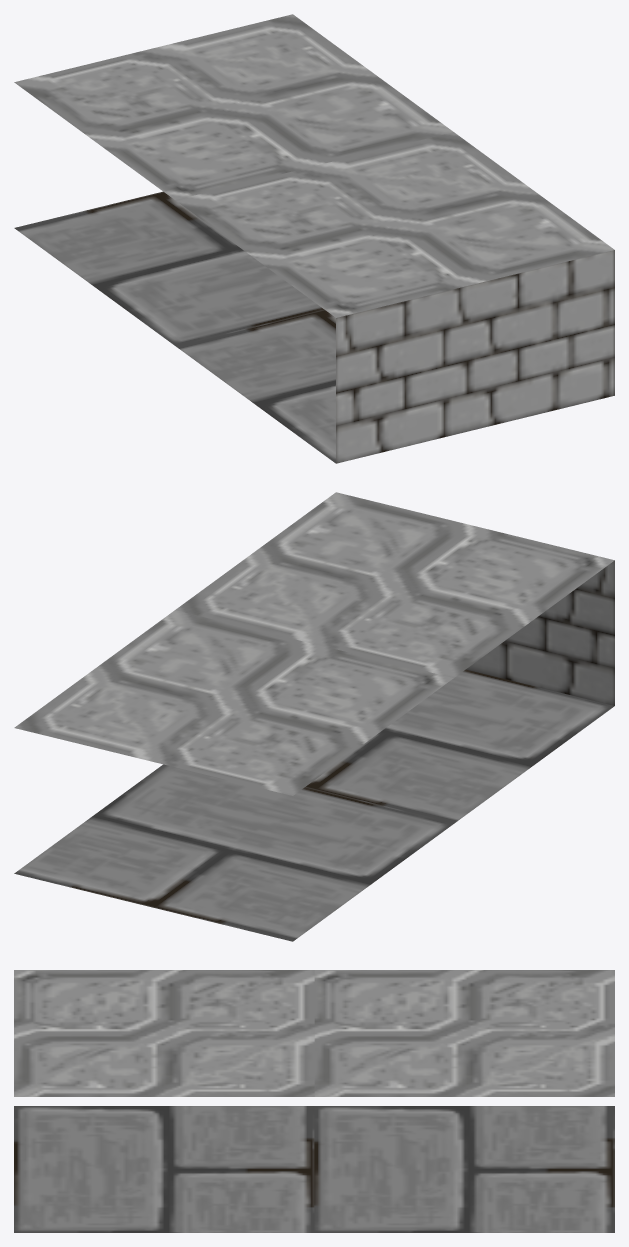
Rendered from stoneConnectedFloorCeilingHalf.fbx.
3 renders of one model, top to bottom at view 1: azimuth 30°, elevation 25°; view 2: azimuth 150°, elevation 25°; view 3: azimuth 270°, elevation 25°, orthographic. The views are drawn at different scales.
Parts seen in each view (by area): view 1: StonePlatformHalf; view 2: StonePlatformHalf; view 3: StonePlatformHalf.
Part boxes in pixels (x1=…): StonePlatformHalf: x1=14, y1=14, x2=614, y2=463; StonePlatformHalf: x1=14, y1=492, x2=614, y2=941; StonePlatformHalf: x1=14, y1=970, x2=614, y2=1232.
Bounding box in the file's own units: 100 × 49.93 × 200.
1 material, 1 textured.
